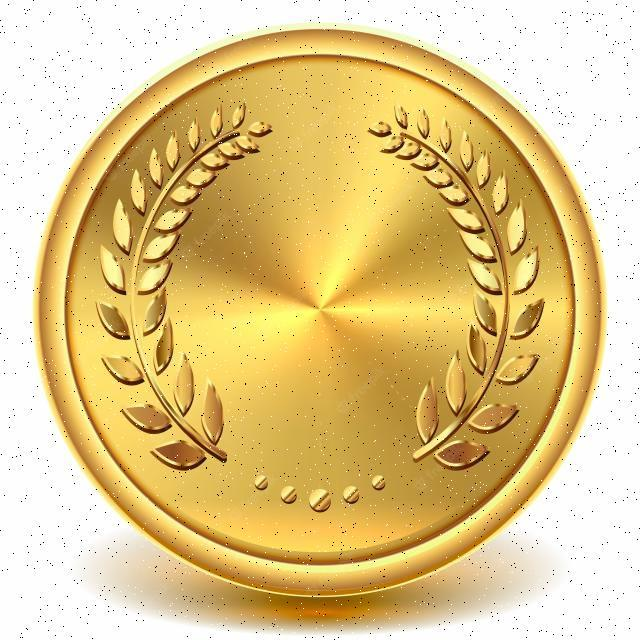Circle: (36, 28, 602, 599)
